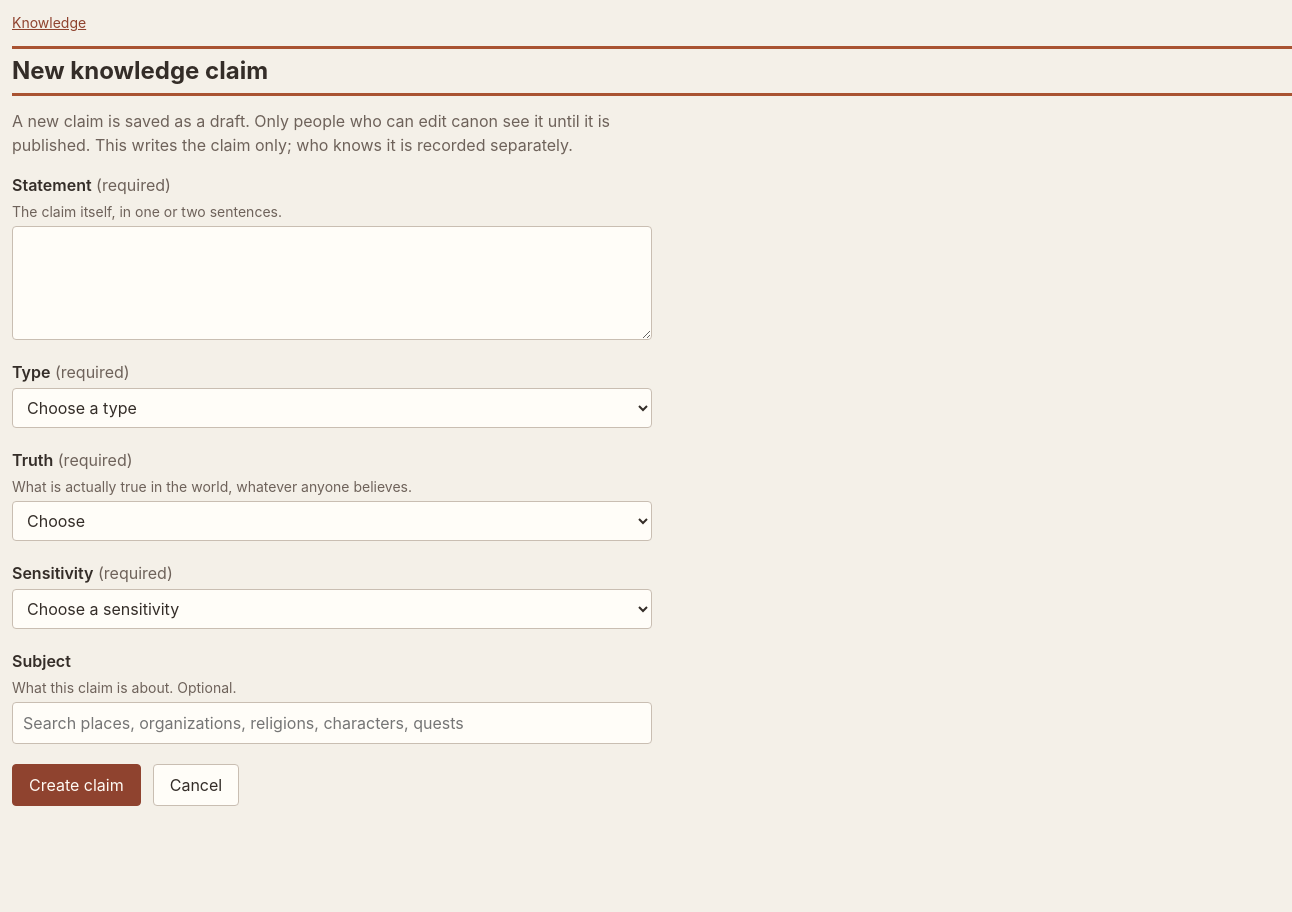
Test: CreateKnowledgePage › maps a refused subject onto its field and keeps the input
Expected: the dropdown labelled "Type (required)" is shown, [12, 388, 652, 428]
Type "A claim." into the text box labelled "Statement (required)".
click(332, 283); type("A claim.")  # box [12, 226, 652, 340]
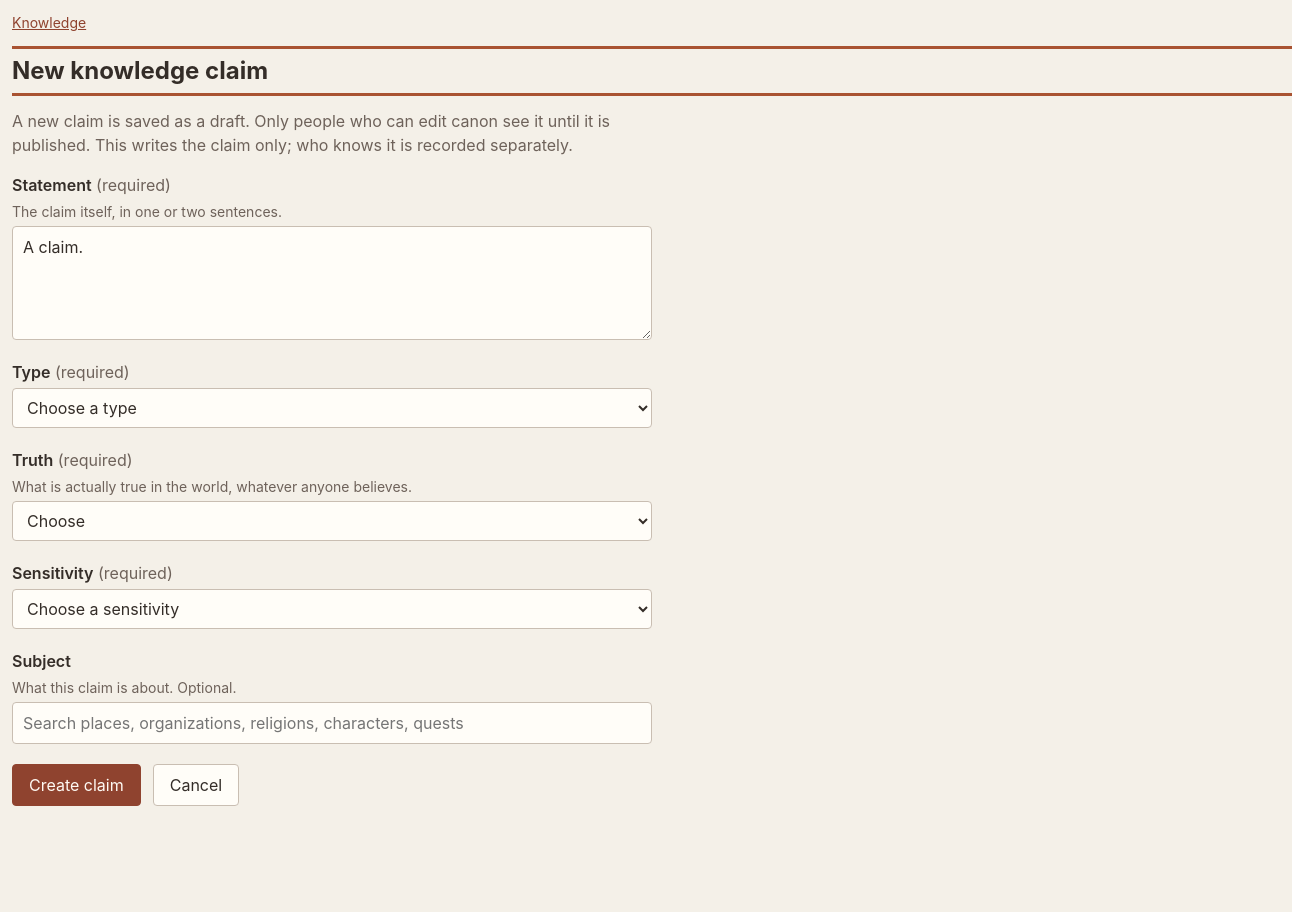
Select "Secret" in the dropdown labelled "Type (required)" at coordinates (332, 408), box [12, 388, 652, 428]
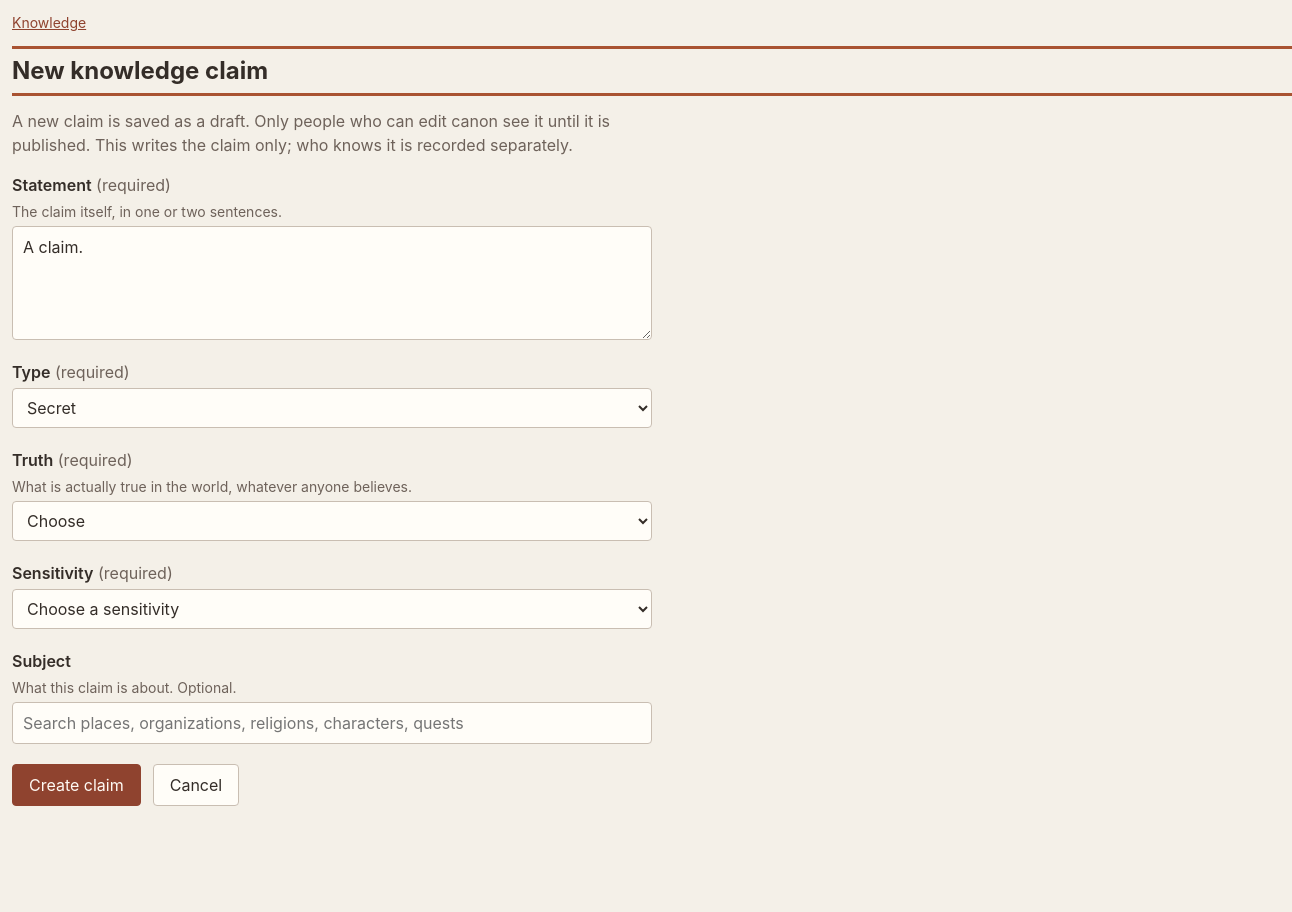
Select "True" in the dropdown labelled "Truth (required)" at coordinates (332, 521), box [12, 501, 652, 541]
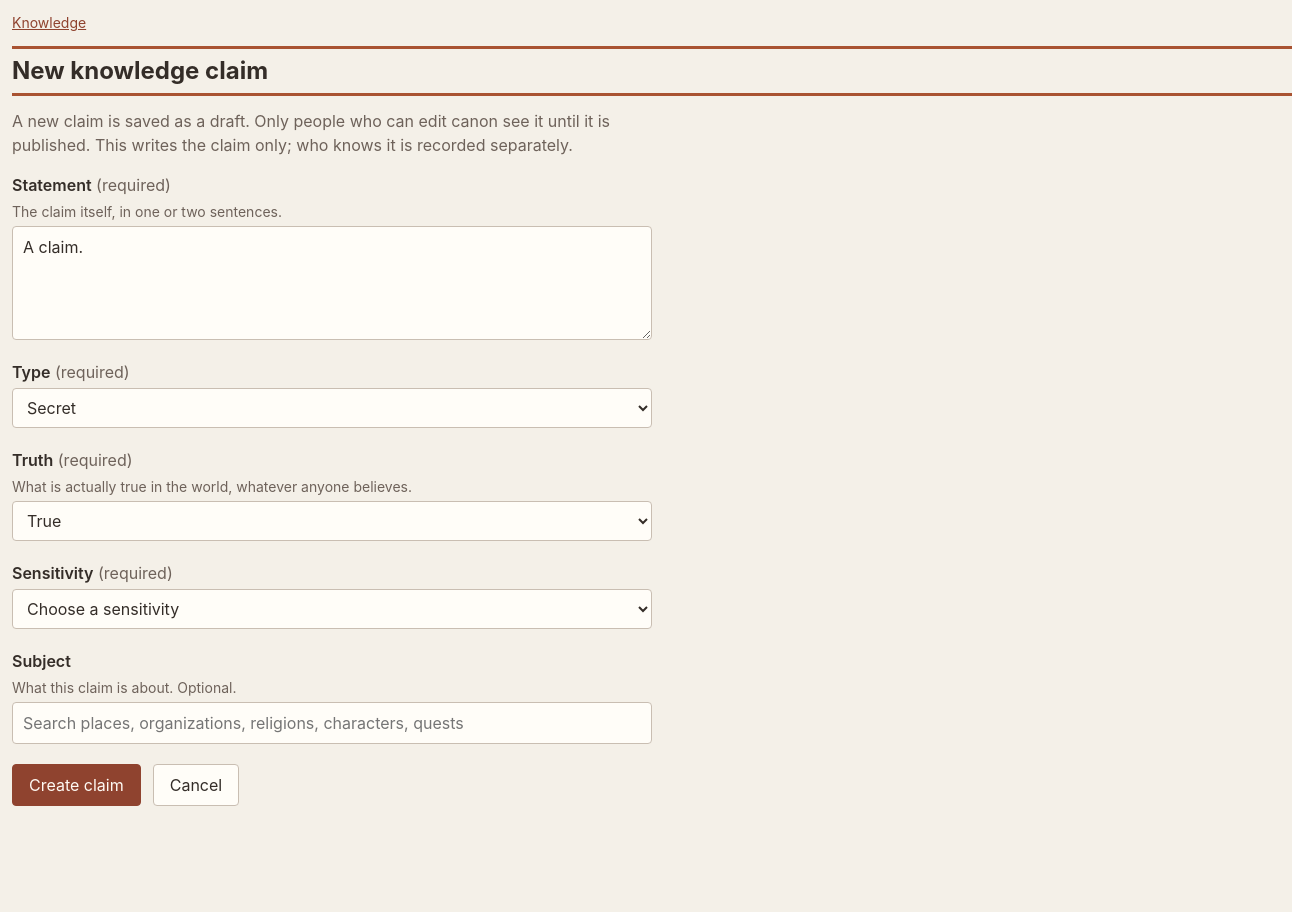
Select "Secret" in the dropdown labelled "Sensitivity (required)" at coordinates (332, 609), box [12, 589, 652, 629]
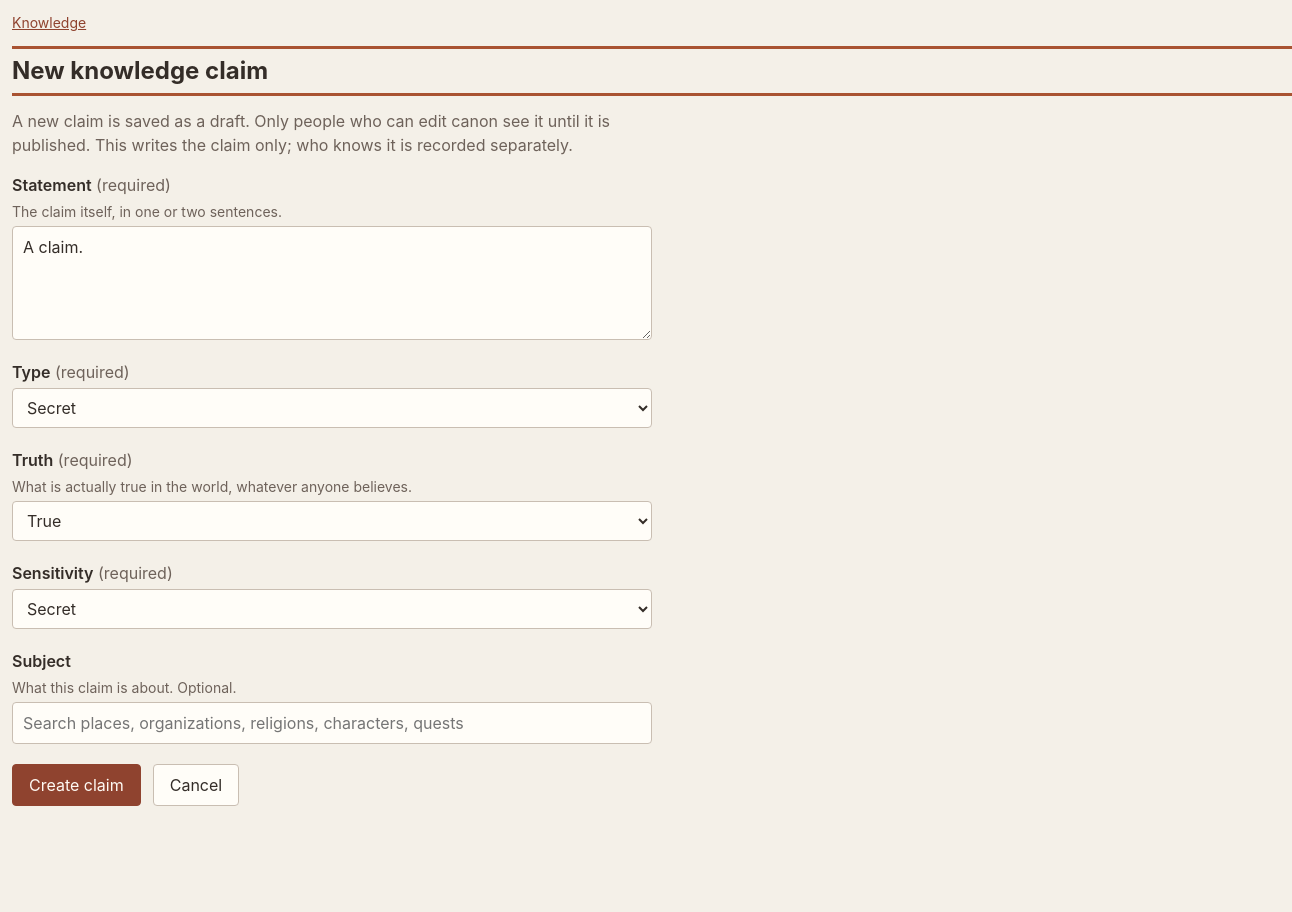
Click the button "Create claim".
click(76, 785)  # box [12, 764, 141, 806]
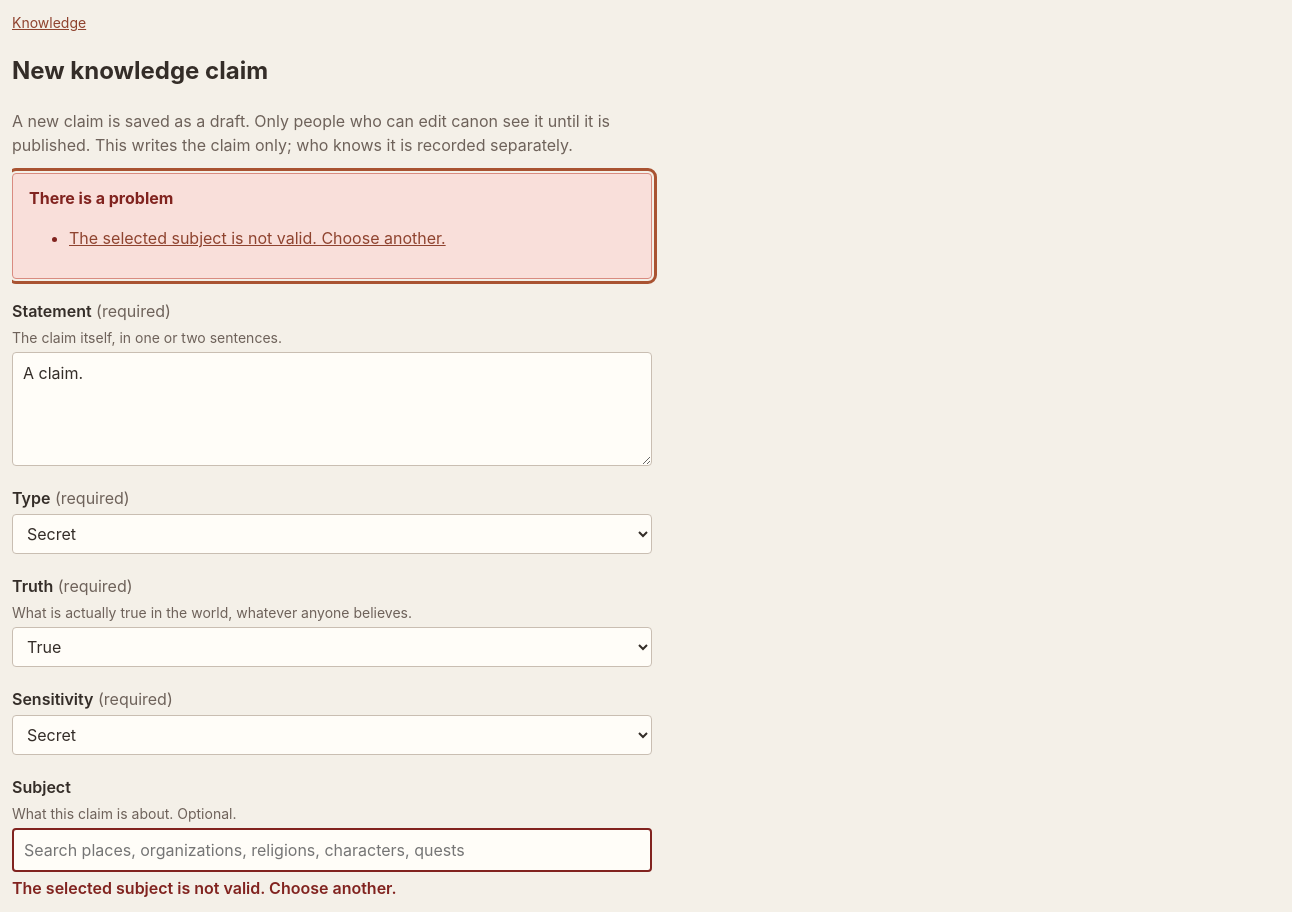
Expected: the message shows "subject is not valid", [69, 228, 446, 248]
